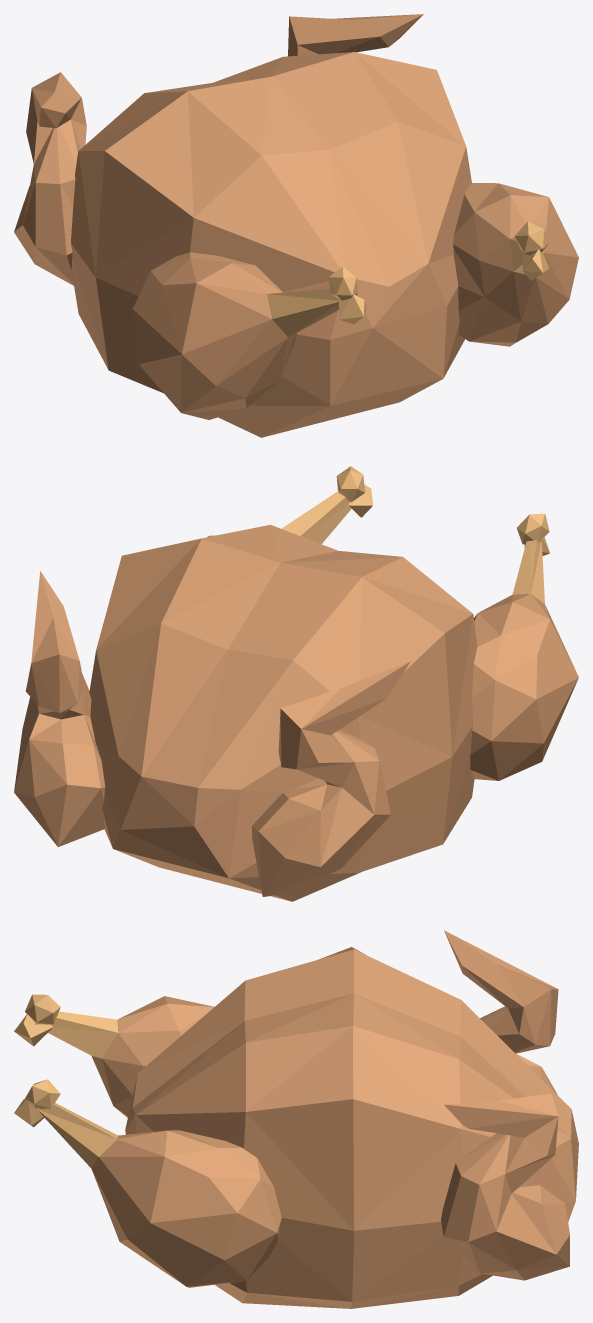
The model's file is SFI_Chicken_Raw_001.fbx.
3 renders of one model, top to bottom at view 1: azimuth 30°, elevation 25°; view 2: azimuth 150°, elevation 25°; view 3: azimuth 270°, elevation 25°, orthographic. The views are drawn at different scales.
Visible parts, largest first — view 1: SFI_Chicken_Raw_001; view 2: SFI_Chicken_Raw_001; view 3: SFI_Chicken_Raw_001.
Part boxes in pixels (x1=…): SFI_Chicken_Raw_001: x1=14, y1=14, x2=578, y2=437; SFI_Chicken_Raw_001: x1=14, y1=466, x2=578, y2=901; SFI_Chicken_Raw_001: x1=14, y1=930, x2=578, y2=1308.
Size of the model in its own units: 46.46 by 33.72 by 60.27.
